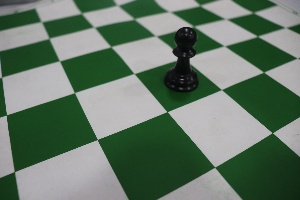black_pawn: (164, 14, 204, 101)
